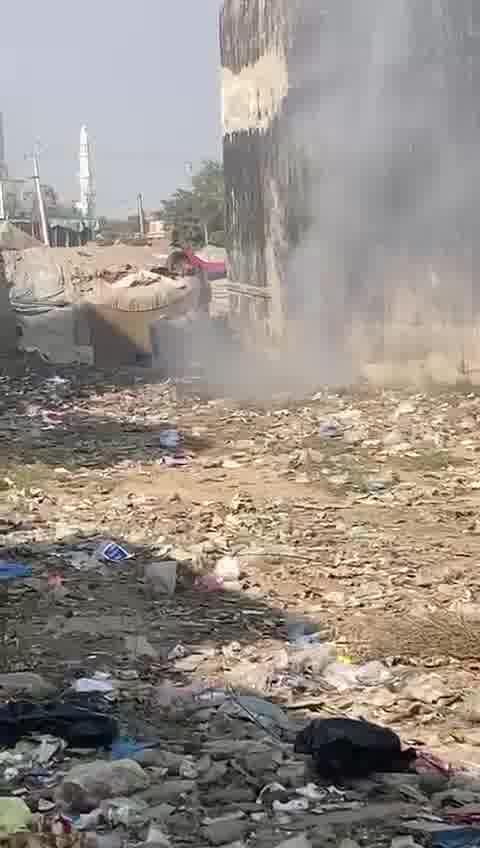garbage: (17, 382, 478, 605), (4, 647, 443, 848)
